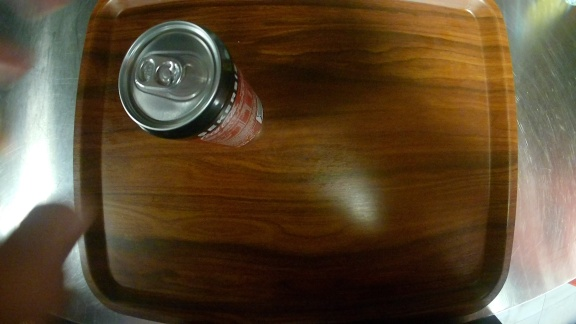kutukola: (113, 20, 271, 157)
